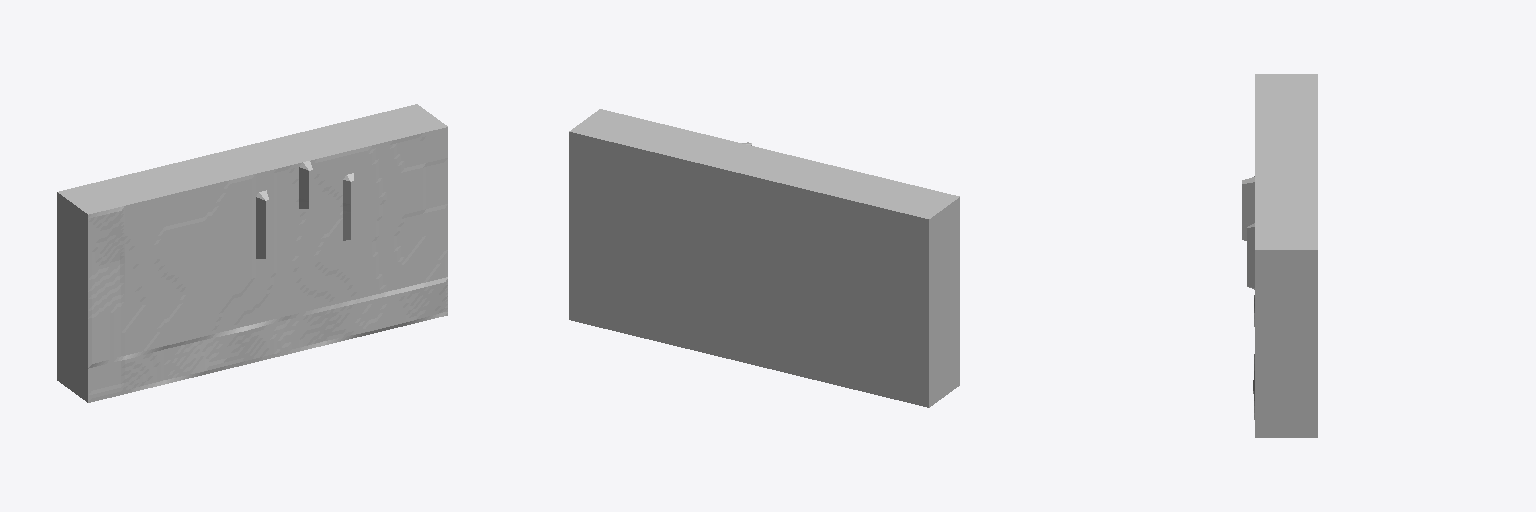
Rendered from rectangular_prism_bumps_7_3.obj.
3 views of the same model, side by side, from view 1: azimuth 30°, elevation 25°; view 2: azimuth 150°, elevation 25°; view 3: azimuth 270°, elevation 25° (orthographic).
Size of the model in its own units: 10 by 5 by 1.81.